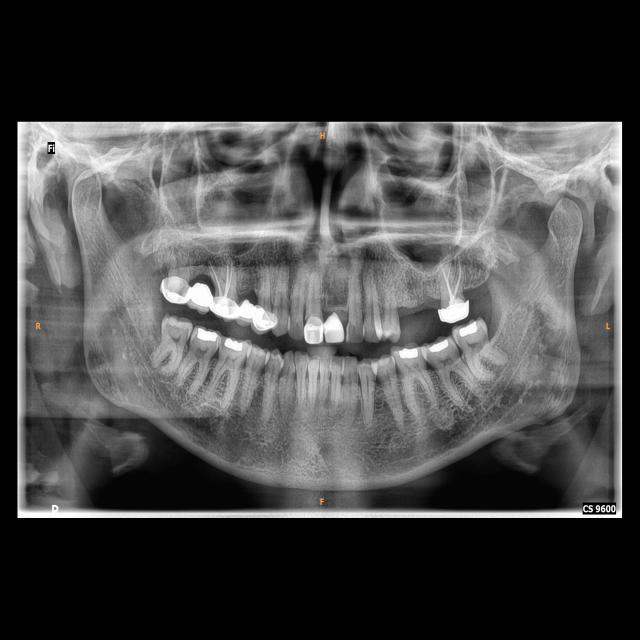dolgu: (456, 318, 488, 348), (190, 321, 222, 346), (423, 337, 451, 360), (393, 344, 424, 364), (218, 333, 245, 355)
kanal-tedavisi: (206, 253, 238, 297), (438, 258, 466, 300)
kaplama: (157, 271, 190, 308), (320, 308, 348, 349), (437, 298, 473, 322), (300, 313, 325, 345), (208, 294, 240, 318), (257, 303, 279, 335)
kopru: (184, 270, 221, 313), (229, 293, 268, 328)
